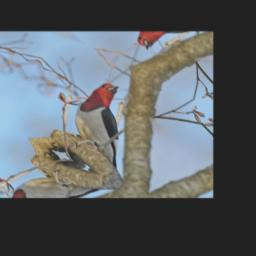Woodpecker: (46, 72, 170, 179)
